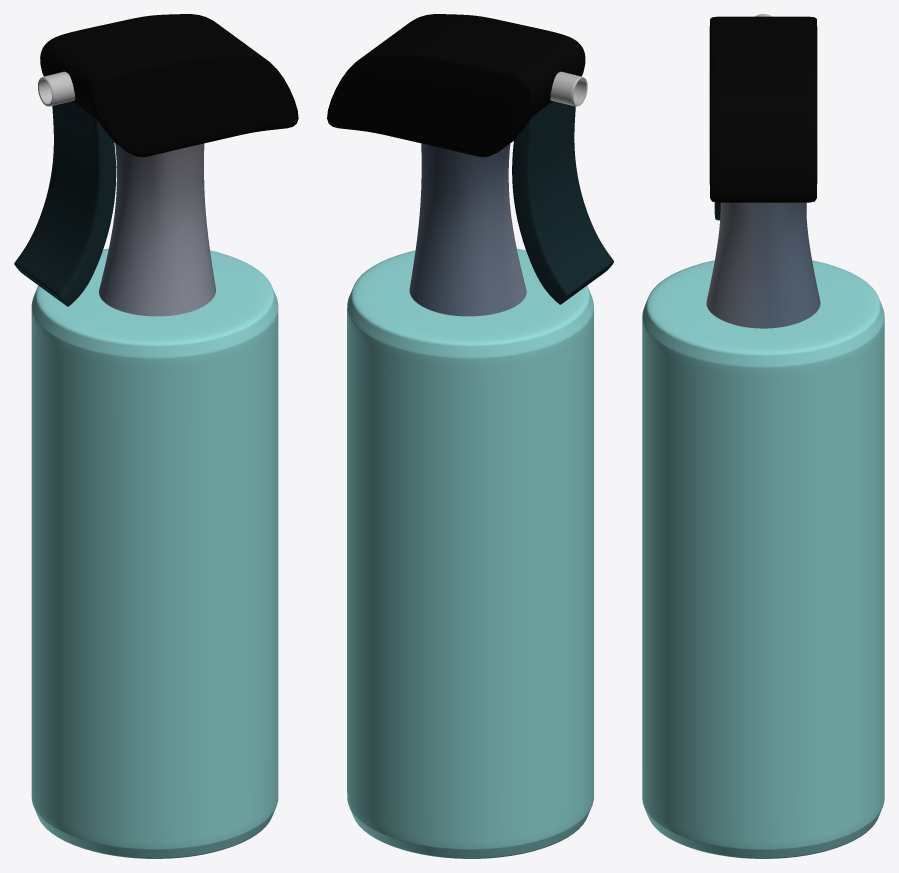
Rendered from Watering_can.FBX.
The picture shows the model from 3 angles, left to right: view 1: azimuth 30°, elevation 25°; view 2: azimuth 150°, elevation 25°; view 3: azimuth 270°, elevation 25°; orthographic projection.
Parts seen in each view (by area): view 1: Object008; view 2: Object008; view 3: Object008.
Boxes of the visible parts, <box> form: Object008: <box>14,14,298,858</box>; Object008: <box>327,14,613,858</box>; Object008: <box>642,14,884,858</box>.
Size of the model in its own units: 160 by 499 by 144.
